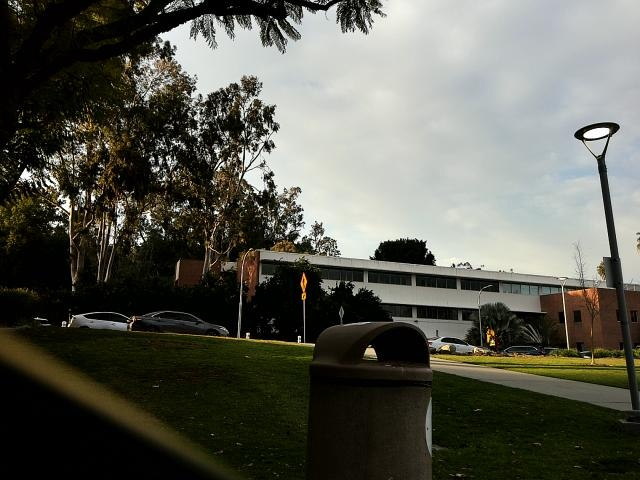trashcan: (303, 318, 440, 480)
